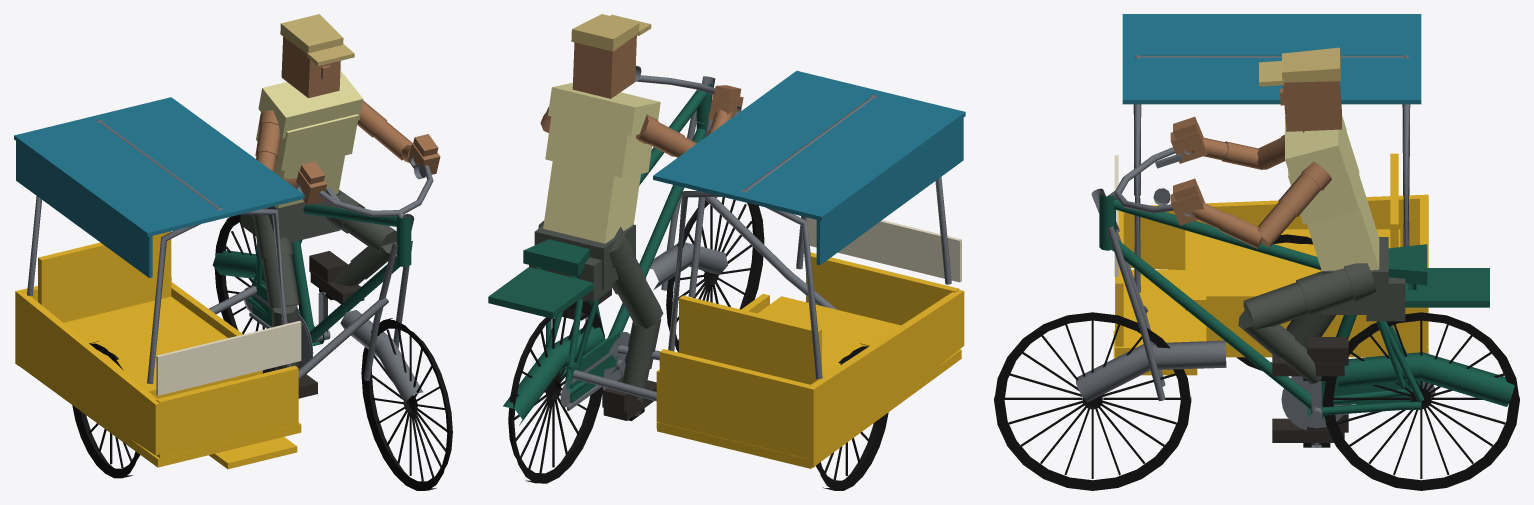
File: padyak.glb
3 renders of one model, left to right at view 1: azimuth 30°, elevation 25°; view 2: azimuth 150°, elevation 25°; view 3: azimuth 270°, elevation 25°, orthographic. The views are drawn at different scales.
Visible parts, largest first — view 1: SidecarBody, Canopy, Spin (×3), Torso, SignBoard, Frame, Fork, SidecarFrame, Leg_R, Hat, Head, Pelvis (+9 smaller); view 2: SidecarBody, Canopy, Torso, Frame, Spin (×3), SidecarFrame, SignBoard, Fork, Head, Leg_R, Pelvis, Hat (+6 smaller); view 3: Canopy, SidecarBody, Frame, Spin (×2), Torso, Fork, Leg_L, Head, SidecarFrame, Pelvis, Hat, Arm_L (+10 smaller).
Part boxes in pixels (left/top/right/bottom): SidecarBody: left=15, top=231, right=301, bottom=469; Canopy: left=14, top=97, right=304, bottom=278; Spin (×3): left=72, top=214, right=452, bottom=490; Torso: left=256, top=70, right=363, bottom=208; SignBoard: left=156, top=321, right=301, bottom=395; Frame: left=212, top=204, right=411, bottom=346; Fork: left=297, top=156, right=433, bottom=405; SidecarFrame: left=27, top=119, right=388, bottom=384; Leg_R: left=250, top=208, right=299, bottom=309; Hat: left=280, top=14, right=354, bottom=66; Head: left=281, top=36, right=340, bottom=98; Pelvis: left=240, top=191, right=340, bottom=242; SidecarBody: left=656, top=252, right=964, bottom=468; Canopy: left=653, top=70, right=965, bottom=265; Torso: left=543, top=82, right=660, bottom=243; Frame: left=488, top=82, right=711, bottom=425; Spin (×3): left=508, top=197, right=888, bottom=490; SidecarFrame: left=572, top=95, right=951, bottom=401; SignBoard: left=806, top=217, right=961, bottom=282; Fork: left=635, top=65, right=740, bottom=297; Head: left=572, top=35, right=636, bottom=98; Leg_R: left=609, top=226, right=663, bottom=328; Pelvis: left=529, top=224, right=635, bottom=301; Hat: left=571, top=14, right=651, bottom=51; Canopy: left=1122, top=14, right=1421, bottom=104; SidecarBody: left=1113, top=153, right=1428, bottom=375; Frame: left=1099, top=193, right=1514, bottom=419; Spin (×2): left=994, top=312, right=1519, bottom=490; Torso: left=1285, top=115, right=1379, bottom=270; Fork: left=1076, top=147, right=1226, bottom=402; Leg_L: left=1243, top=263, right=1375, bottom=330; Head: left=1280, top=81, right=1341, bottom=132; SidecarFrame: left=1133, top=55, right=1410, bottom=312; Pelvis: left=1322, top=237, right=1405, bottom=321; Hat: left=1259, top=47, right=1340, bottom=86; Arm_L: left=1257, top=162, right=1331, bottom=246.
Bounding box in the file's own units: 1.43 × 1.59 × 1.76.
